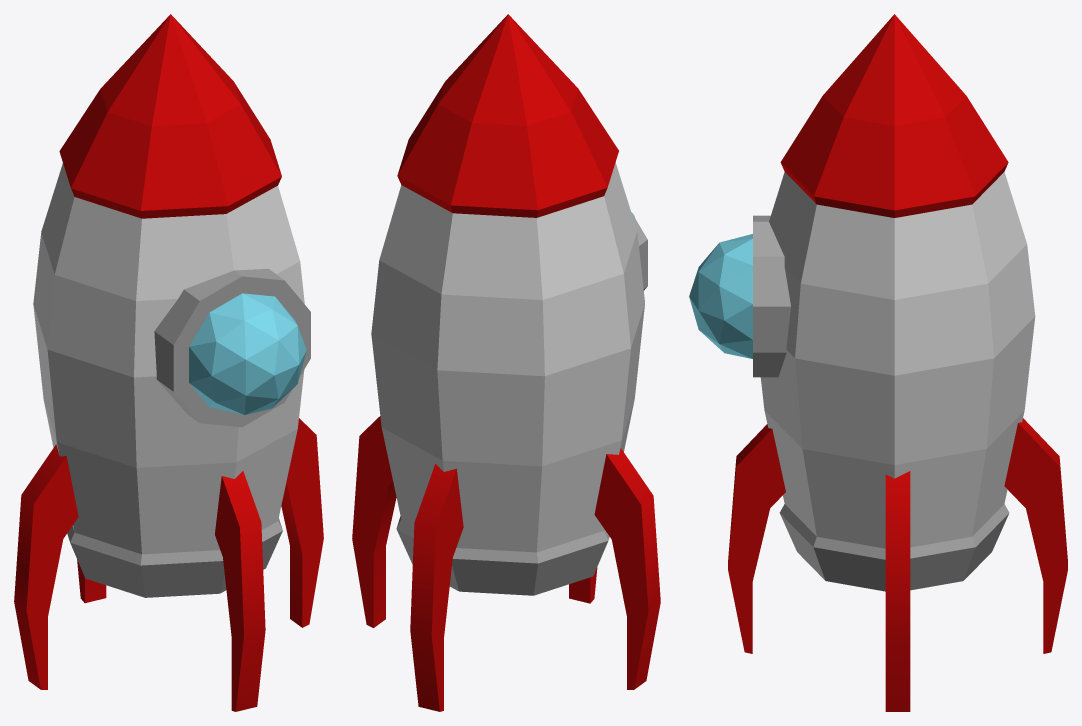
File: newspaceship.glb
The picture shows the model from 3 angles, left to right: view 1: azimuth 30°, elevation 25°; view 2: azimuth 150°, elevation 25°; view 3: azimuth 270°, elevation 25°; orthographic projection.
Parts seen in each view (by area): view 1: Rocket Ship 01; view 2: Rocket Ship 01; view 3: Rocket Ship 01.
Boxes of the visible parts, x1,y1,x2,y2 form: Rocket Ship 01: (14,14,323,711); Rocket Ship 01: (352,14,660,711); Rocket Ship 01: (689,14,1067,711).
Size of the model in its own units: 0.6919 by 1.43 by 0.7715.
